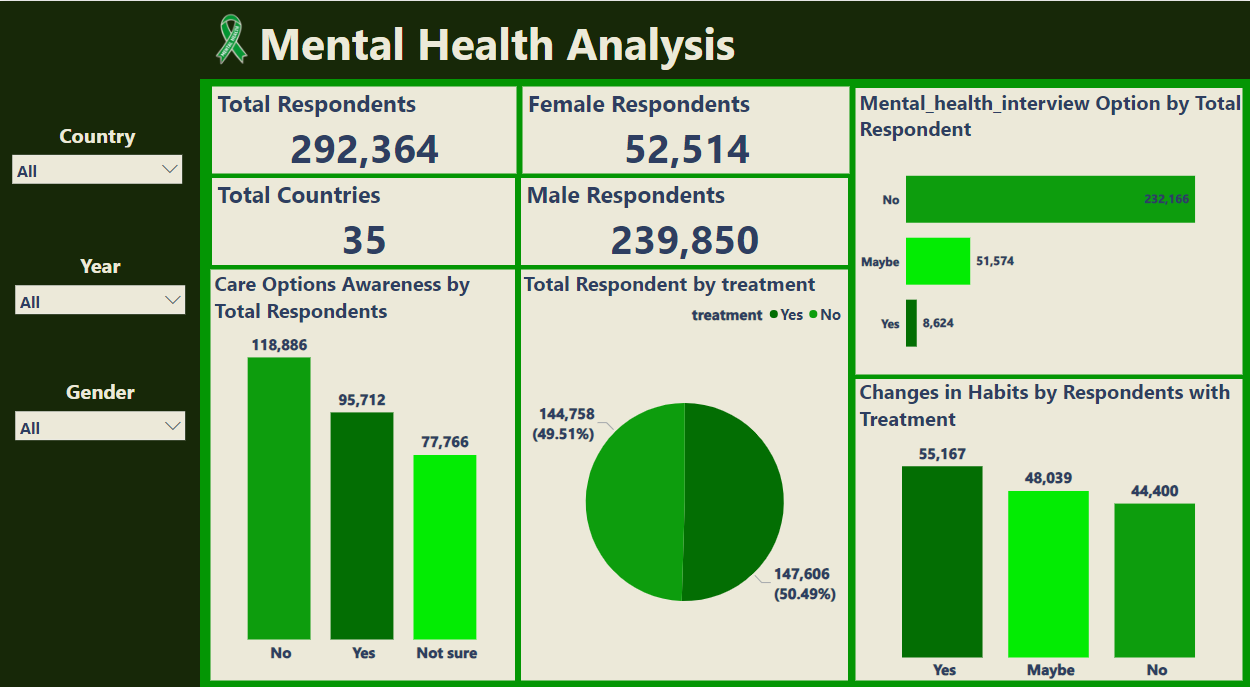

The dashboard page shown, as its layout file describes it:
{"tool":"powerbi","page":{"name":"Report 1","canvas":[1670,915],"ordinal":0},"visuals":[{"type":"shape","box":[268,104,1402,812],"z":0},{"type":"image","box":[254,8,112,86],"z":1000},{"type":"textbox","box":[282,10,764,104],"z":2000},{"type":"shape","box":[282,358,406,548],"z":3000},{"type":"shape","box":[1142,116,516,382],"z":4000},{"type":"shape","box":[1142,504,516,402],"z":5000},{"type":"shape","box":[284,114,406,116],"z":6000},{"type":"slicer","title":"Year","fields":{"Values":["Mental Health Dataset.Year"]},"box":[12,334,246,86],"z":7000},{"type":"shape","box":[696,358,436,548],"z":8000},{"type":"slicer","title":"Gender","fields":{"Values":["Mental Health Dataset.Gender"]},"box":[12,502,246,128],"z":9000},{"type":"clusteredColumnChart","title":"Changes in Habits by Respondents with Treatment","fields":{"Category":["Mental Health Dataset.Changes_Habits"],"Y":["Dax Measure.Respondents with Treatment"]},"box":[1142,502,520,414],"z":10000},{"type":"shape","box":[284,236,404,116],"z":11000},{"type":"clusteredBarChart","title":"Mental_health_interview Option by Total Respondent","fields":{"Category":["Mental Health Dataset.mental_health_interview"],"Y":["Dax Measure.Total Respondent"]},"box":[1142,116,520,386],"z":12000},{"type":"clusteredColumnChart","title":"Care Options Awareness by Total Respondents","fields":{"Category":["Mental Health Dataset.care_options"],"Y":["Dax Measure.Total Respondent"]},"box":[282,358,408,534],"z":13000},{"type":"card","title":"Total Respondents","fields":{"Values":["Dax Measure.Total Respondent"]},"box":[286,114,402,116],"z":14000},{"type":"card","title":"Total Countries","fields":{"Values":["Dax Measure.Total Countries"]},"box":[286,236,402,116],"z":15000},{"type":"pieChart","fields":{"Category":["Mental Health Dataset.treatment"],"Y":["Dax Measure.Total Respondent"]},"box":[694,358,440,548],"z":16000},{"type":"slicer","title":"Country","fields":{"Values":["Mental Health Dataset.Country"]},"box":[8,160,246,86],"z":17000},{"type":"shape","box":[696,236,436,116],"z":18000},{"type":"shape","box":[698,114,436,116],"z":19000},{"type":"card","title":"Female Respondents","fields":{"Values":["Dax Measure.Female Respondents"]},"box":[700,114,434,116],"z":20000},{"type":"card","title":"Male Respondents","fields":{"Values":["Dax Measure.Male Respondents"]},"box":[698,236,432,116],"z":21000}]}

Visuals, with their boxes in screenshot pixels (x1, y1, x2, y2), scaled from the page's 1670x915 canvas onto the 1250x687 screenshot:
shape: 201,78,1249,686
image: 190,6,274,71
textbox: 211,8,783,86
shape: 211,269,515,680
shape: 855,87,1241,374
shape: 855,378,1241,680
shape: 213,86,516,173
"Year" slicer: 9,251,193,315
shape: 521,269,847,680
"Gender" slicer: 9,377,193,473
"Changes in Habits by Respondents with Treatment" clusteredColumnChart: 855,377,1244,686
shape: 213,177,515,264
"Mental_health_interview Option by Total Respondent" clusteredBarChart: 855,87,1244,377
"Care Options Awareness by Total Respondents" clusteredColumnChart: 211,269,516,670
"Total Respondents" card: 214,86,515,173
"Total Countries" card: 214,177,515,264
pieChart - Mental Health Dataset.treatment x Dax Measure.Total Respondent: 519,269,849,680
"Country" slicer: 6,120,190,185
shape: 521,177,847,264
shape: 522,86,849,173
"Female Respondents" card: 524,86,849,173
"Male Respondents" card: 522,177,846,264
